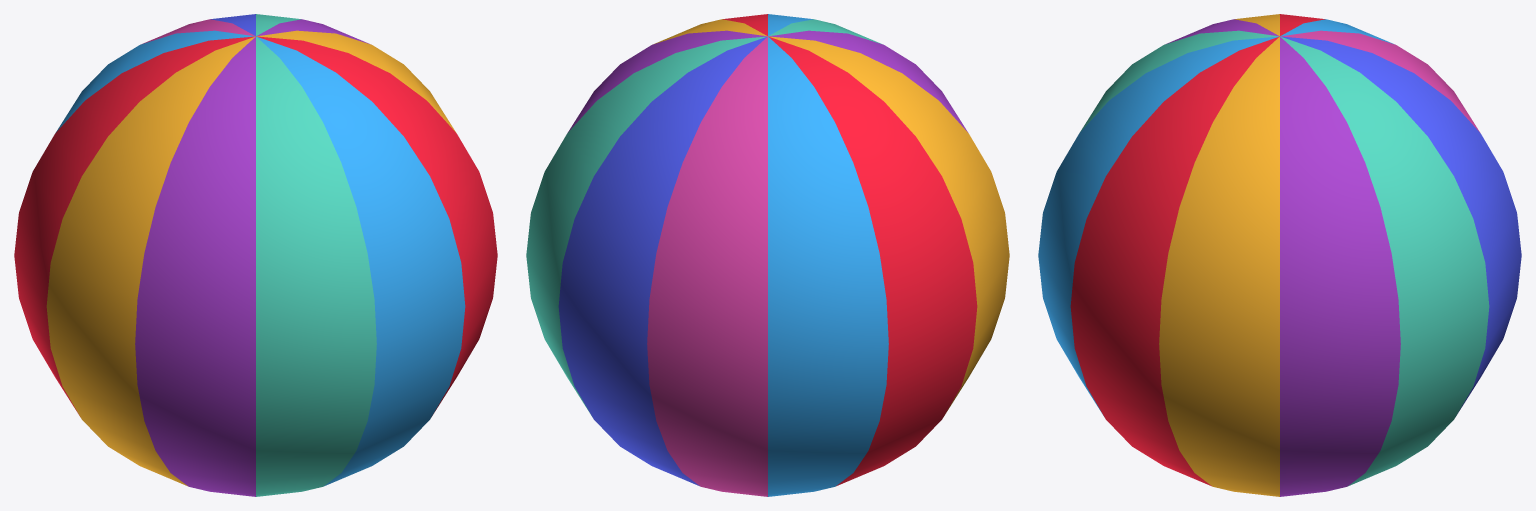
The model's file is toy-ball.fbx.
3 views of the same model, side by side, from view 1: azimuth 30°, elevation 25°; view 2: azimuth 150°, elevation 25°; view 3: azimuth 270°, elevation 25° (orthographic).
Visible parts, largest first — view 1: Sphere; view 2: Sphere; view 3: Sphere.
Boxes of the visible parts, x1,y1,x2,y2 form: Sphere: (14,14,497,496); Sphere: (526,14,1009,496); Sphere: (1038,14,1521,496).
Size of the model in its own units: 200 by 200 by 200.
